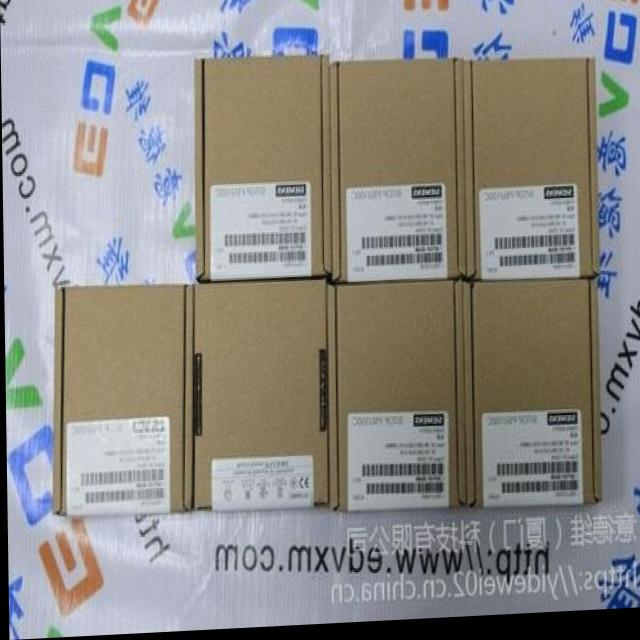box: (462, 281, 603, 516), (50, 286, 193, 515), (326, 285, 463, 515), (192, 279, 326, 513), (194, 56, 330, 284), (329, 60, 464, 285), (463, 64, 599, 287)
